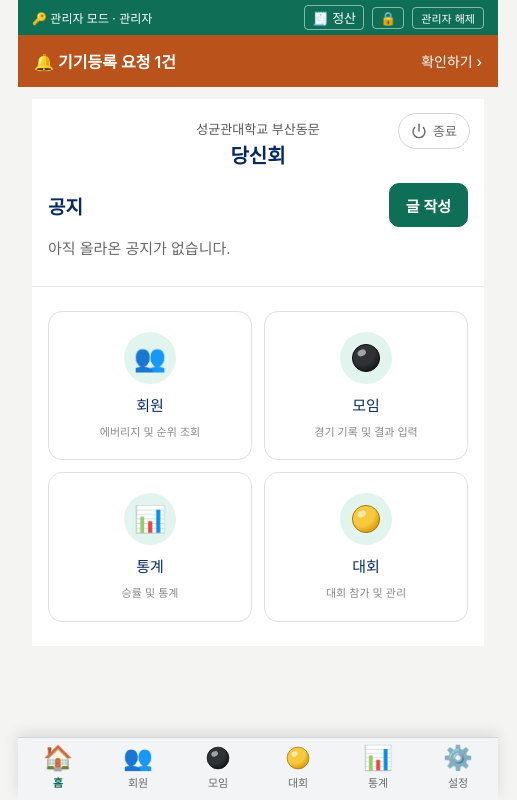
Test: 상단 알림 — 클릭 시 승인 화면으로 이동 (App 전체) › F. 알림을 누르면 설정 탭으로 이동하고 기기 연결 승인 카드로 스크롤한다
Click the text "🔔 기기등록 요청 1건". click: (105, 61)
box: left=34, top=49, right=176, bottom=73
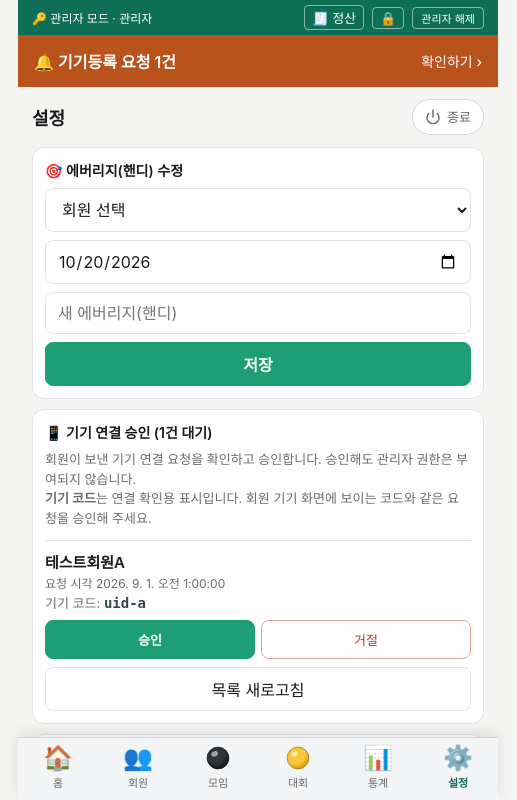
Expected: the heading "설정" is shown, left=32, top=108, right=65, bottom=129
Expected: the text "📱 기기 연결 승인 (1건 대기)" is shown, left=45, top=424, right=212, bottom=441
